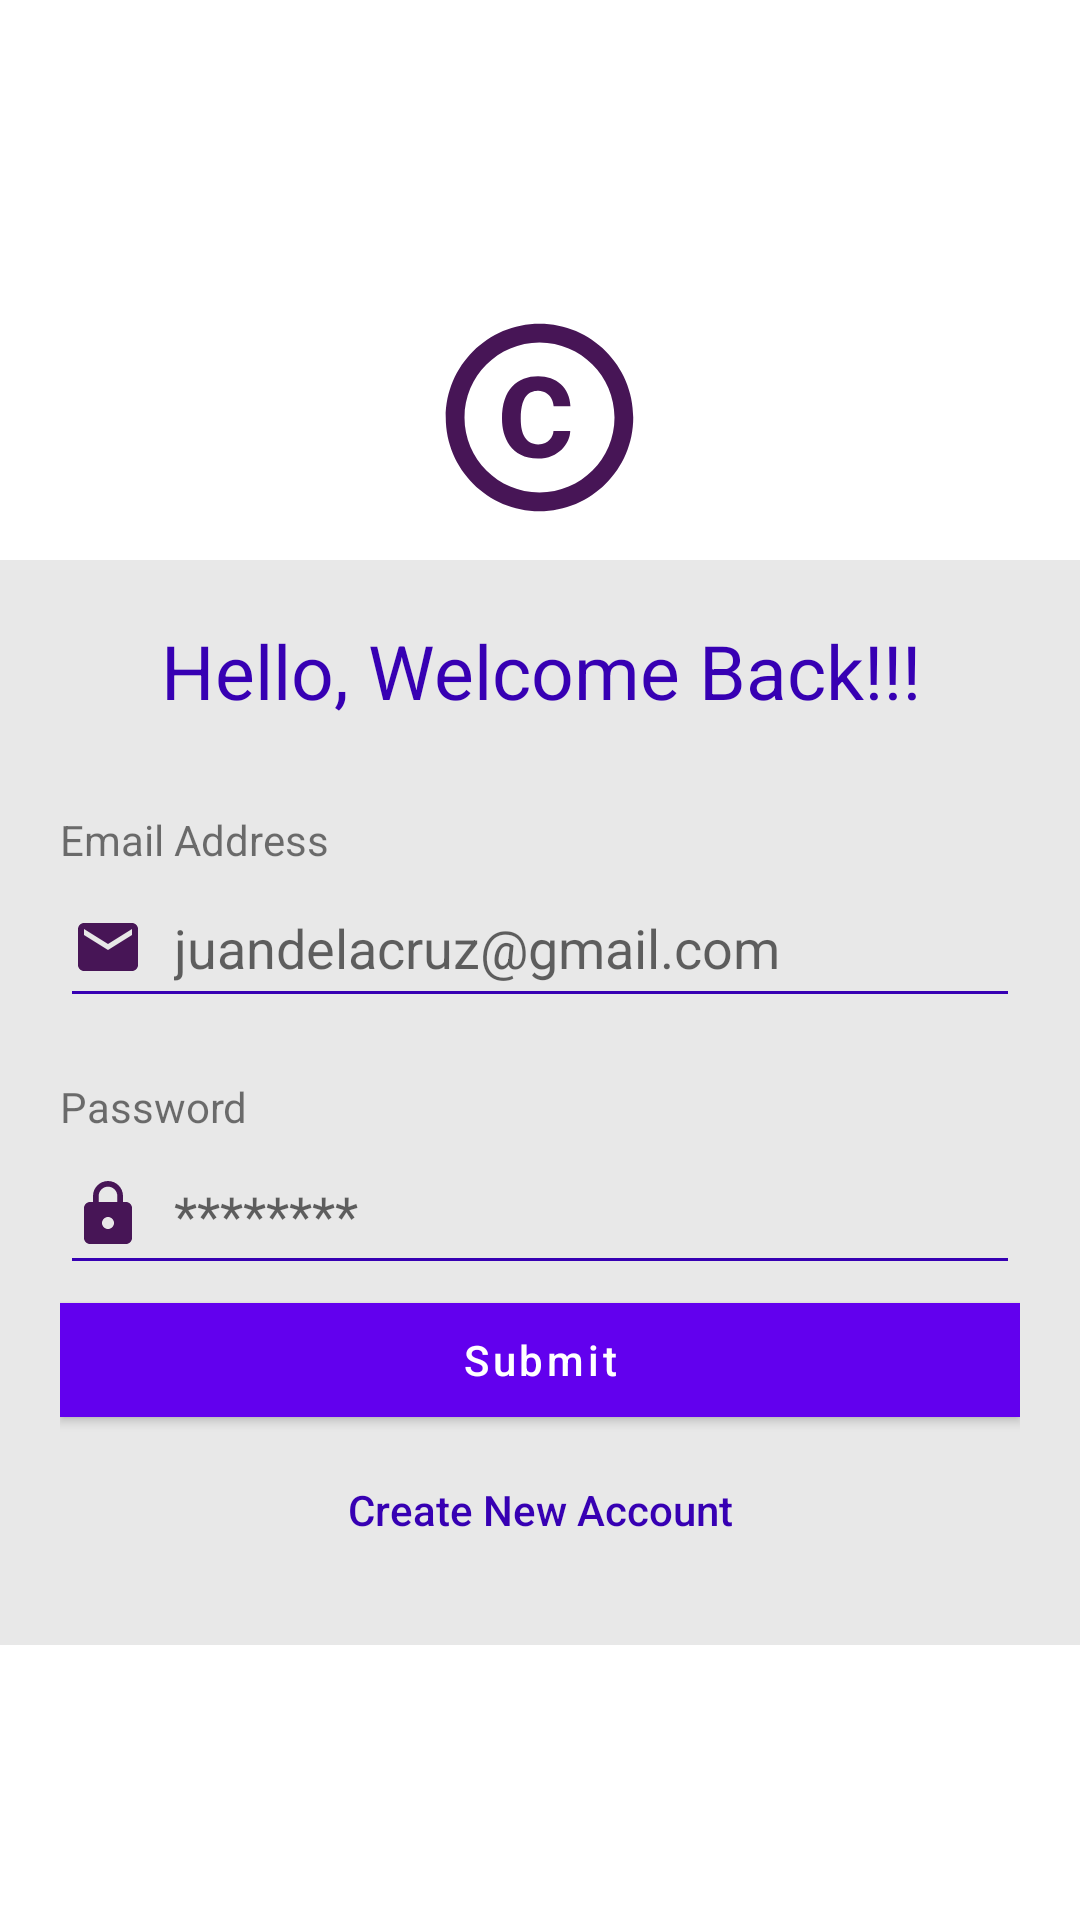

Icons on this 1080 x 1920 Android screen, each with the point to tap as (x,y):
copyright: (539,417)
